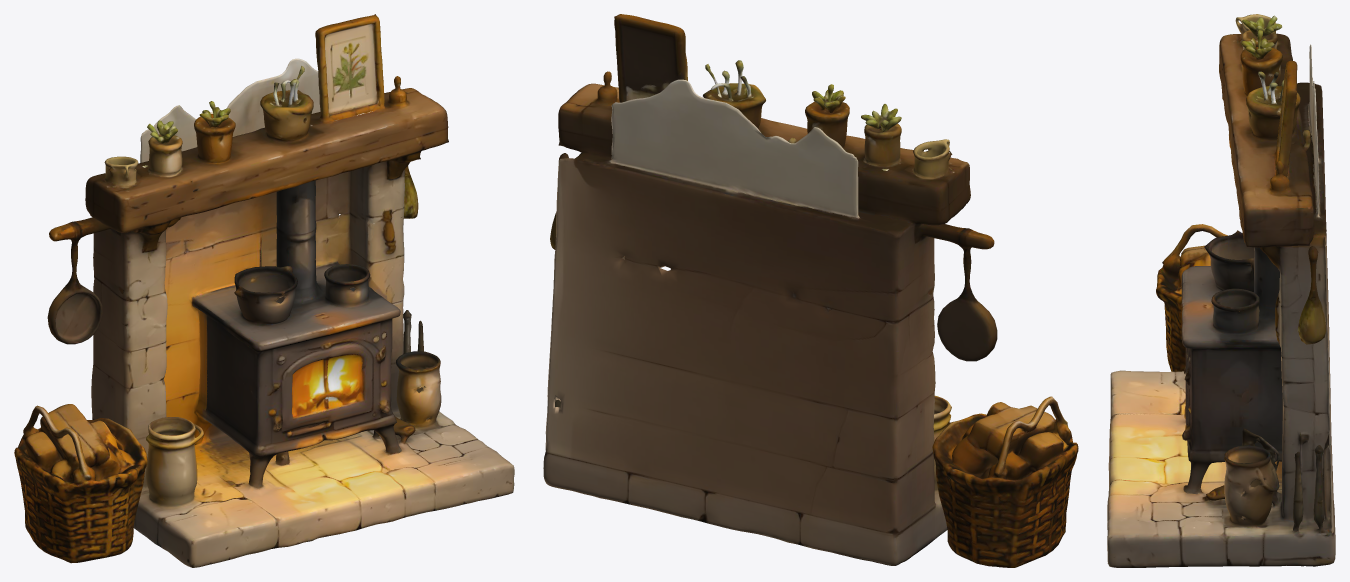
File: wood-stove.glb
The picture shows the model from 3 angles, left to right: view 1: azimuth 30°, elevation 25°; view 2: azimuth 150°, elevation 25°; view 3: azimuth 270°, elevation 25°; orthographic projection. The views are drawn at different scales.
Visible parts, largest first — view 1: tripo_node_f650f503; view 2: tripo_node_f650f503; view 3: tripo_node_f650f503.
Part boxes in pixels (<box>): tripo_node_f650f503: <box>14,14,514,567</box>; tripo_node_f650f503: <box>543,14,1078,567</box>; tripo_node_f650f503: <box>1107,14,1335,567</box>.
Size of the model in its own units: 97.67 by 92.84 by 42.43.
1 material, 1 textured.
